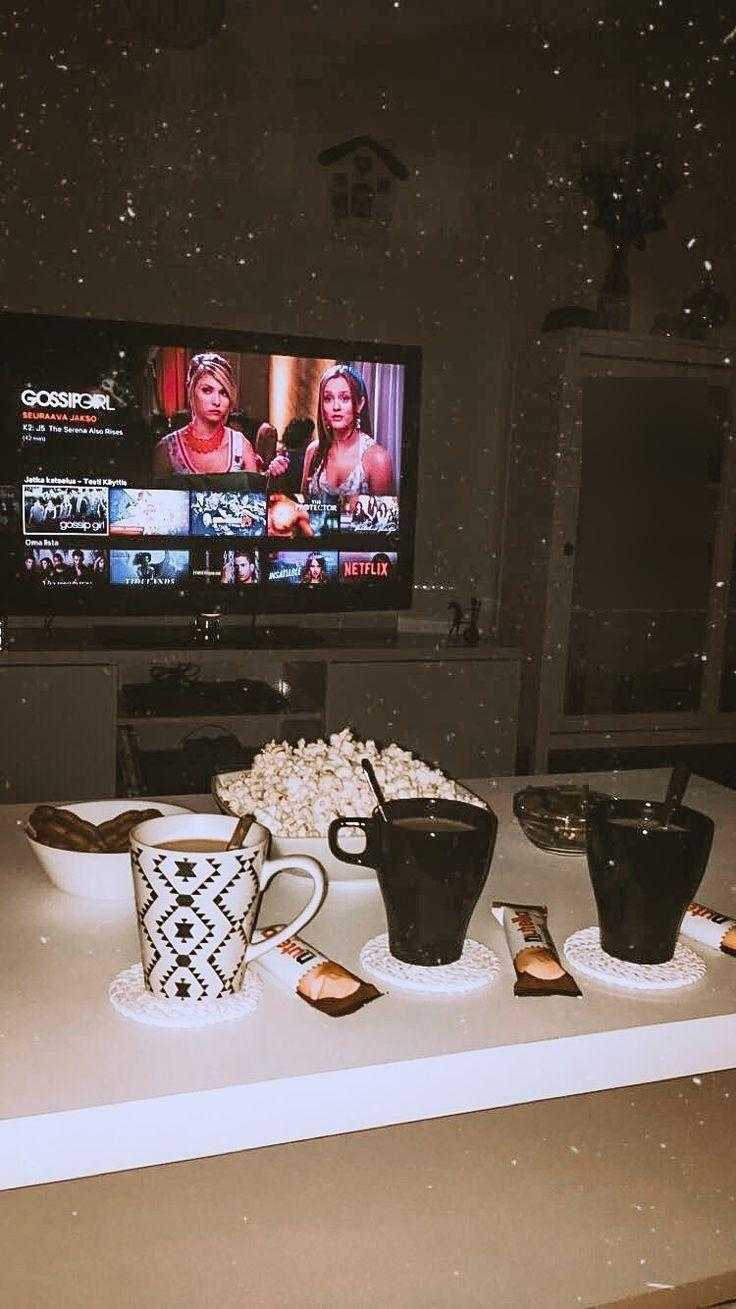cup-handle: (127, 810, 326, 1010), (329, 796, 498, 965), (584, 795, 718, 965)
